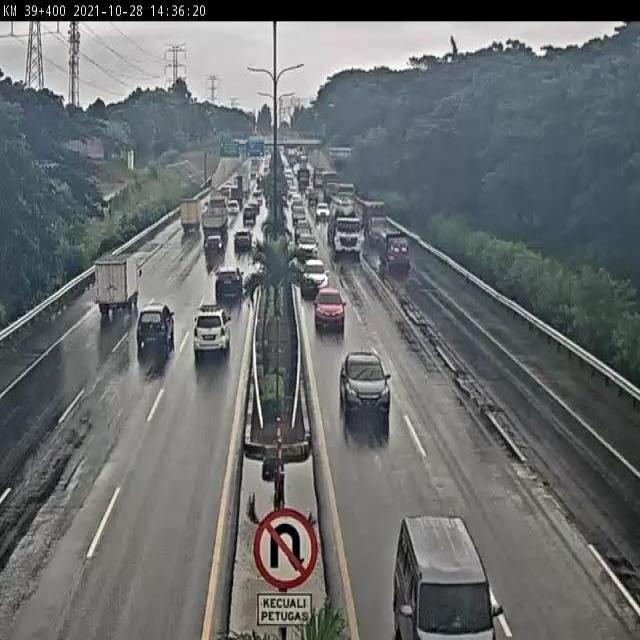Car: (392, 517, 494, 640), (338, 350, 392, 415), (193, 304, 233, 356), (136, 304, 175, 351), (314, 288, 348, 328), (215, 265, 245, 301)
Truck: (94, 254, 138, 313), (201, 198, 229, 238), (180, 200, 201, 232)
